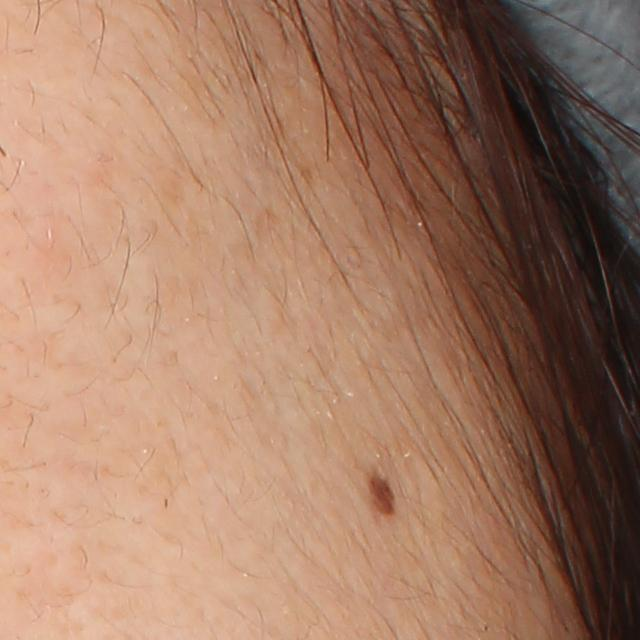nevus: (362, 467, 398, 520)
